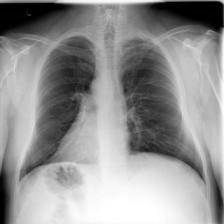normal: (17, 28, 208, 189)
